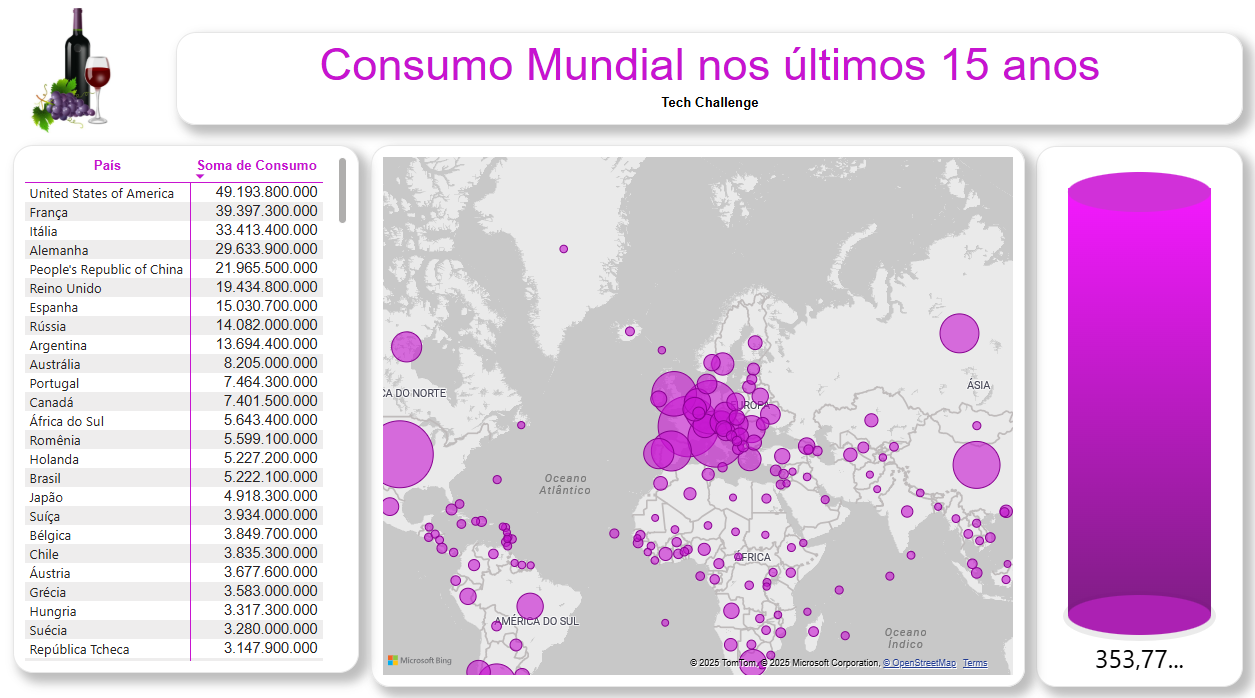

Layout of this report page (visuals, bound fields, positions):
{"tool":"powerbi","page":{"name":"Consumo","canvas":[1280,720],"ordinal":0},"visuals":[{"type":"textbox","title":"Consumo Mundial nos últimos 15 anos","box":[198.4,42.8,1067,93.4],"z":0},{"type":"image","box":[12.6,6.8,160.5,148.8],"z":1000},{"type":"cylindricalGauge73A12A442345453EB69B593649C3A341","fields":{"Values":["Sum(consumo_vinho_para_power_bi.Consumo)"],"Max":["Sum(consumo_vinho_para_power_bi.Consumo)"]},"box":[1058.2,156.6,207.2,541.8],"z":2000},{"type":"pivotTable","fields":{"Rows":["consumo_vinho_para_power_bi.País"],"Values":["Sum(consumo_vinho_para_power_bi.Consumo)"]},"box":[35,155.6,346.3,528.1],"z":3000},{"type":"map","fields":{"Size":["Sum(consumo_vinho_para_power_bi.Consumo)"],"Category":["consumo_vinho_para_power_bi.País"]},"box":[392.9,155.6,653.6,542.7],"z":4000}]}

Visuals, with their boxes in screenshot pixels (x1, y1, x2, y2), scaled from the page's 1280x720 canvas onto the 1255x698 screenshot:
"Consumo Mundial nos últimos 15 anos" textbox: 195 41 1241 132
image: 12 7 170 151
cylindricalGauge73A12A442345453EB69B593649C3A341 - Sum(consumo_vinho_para_power_bi.Consumo) x Sum(consumo_vinho_para_power_bi.Consumo): 1038 152 1241 677
pivotTable - consumo_vinho_para_power_bi.País x Sum(consumo_vinho_para_power_bi.Consumo): 34 151 374 663
map - Sum(consumo_vinho_para_power_bi.Consumo) x consumo_vinho_para_power_bi.País: 385 151 1026 677
